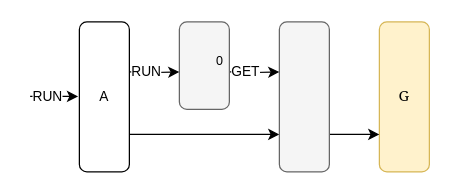
Some shapes in this 453 by 194 pixel diagram are drawn without their labels. The shapes that lost their labels are listed below. From the top down, each one's box as (x1, y1, x2, y2) in pixels, then its label:
(178, 21, 229, 109): Win
(278, 21, 329, 172): Store G
